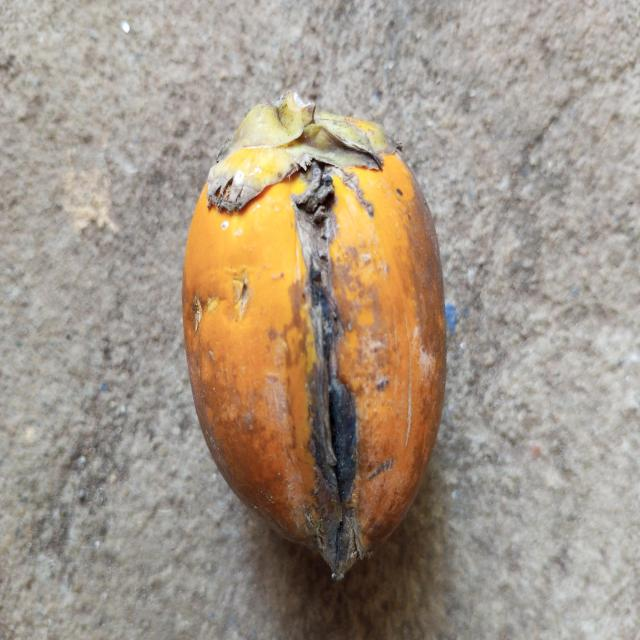damaged: (180, 95, 449, 584)
